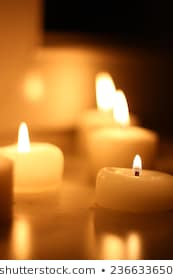Fire: (95, 74, 116, 110), (114, 89, 131, 124), (16, 122, 30, 151), (129, 150, 144, 172)
